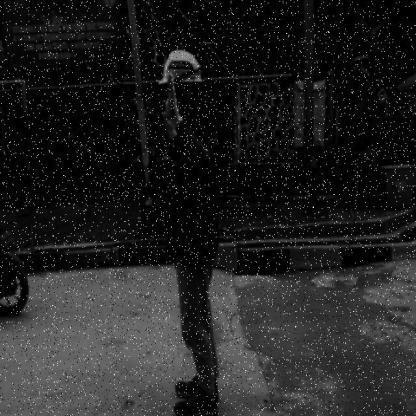boots: (169, 381, 223, 416), (166, 368, 221, 393)
gloves: (155, 77, 184, 128)
helmet: (152, 45, 210, 93)
vest: (154, 155, 192, 238), (207, 133, 227, 195)
